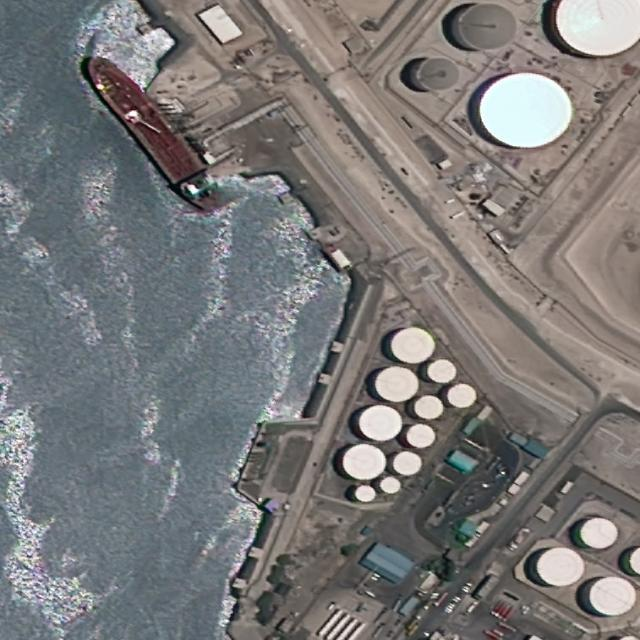Cargo: (74, 47, 232, 216)
